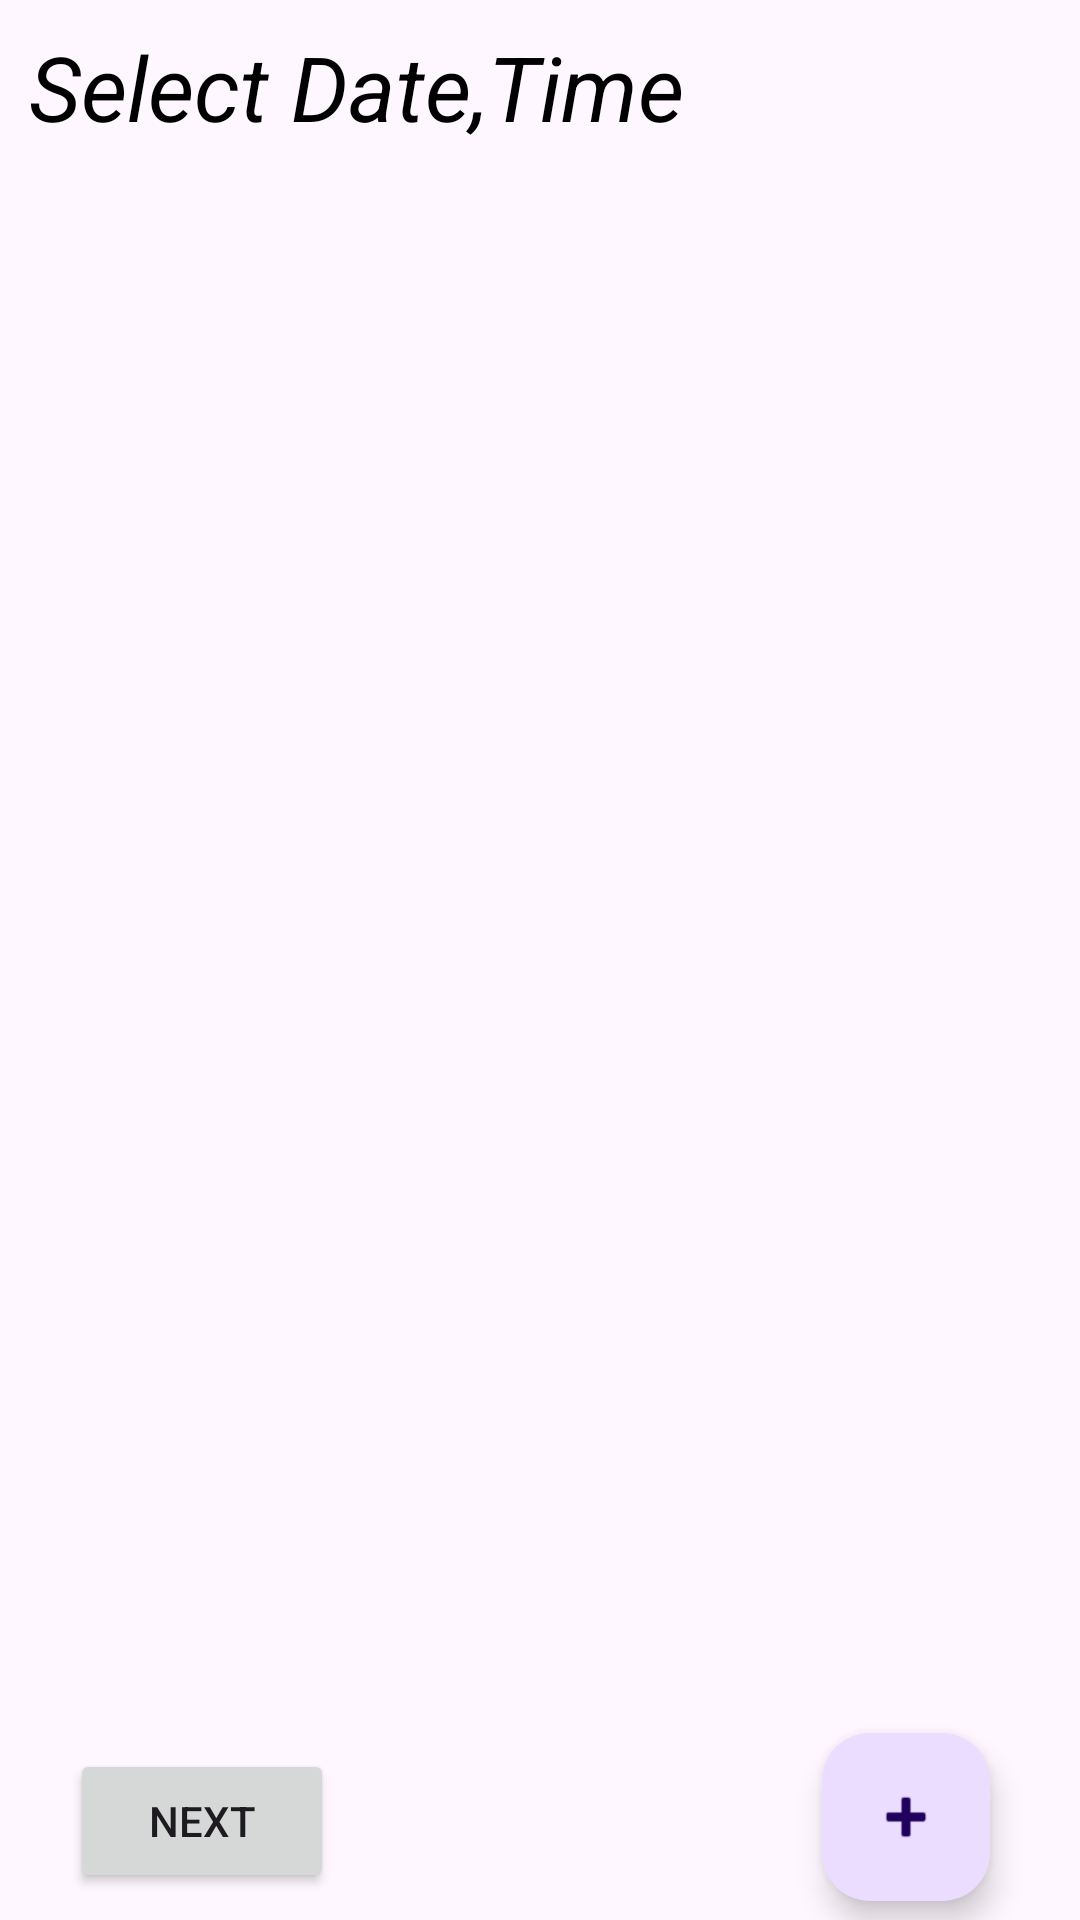

Where icons sit on this 1080px x 1920px app screen, as box(x1, y1, x2, y2):
Add a new note: box(822, 1733, 990, 1901)
